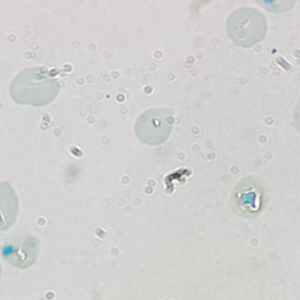erythrocyte: (7, 64, 65, 108), (227, 174, 273, 222), (224, 5, 270, 49), (132, 105, 179, 147), (1, 231, 43, 270)
